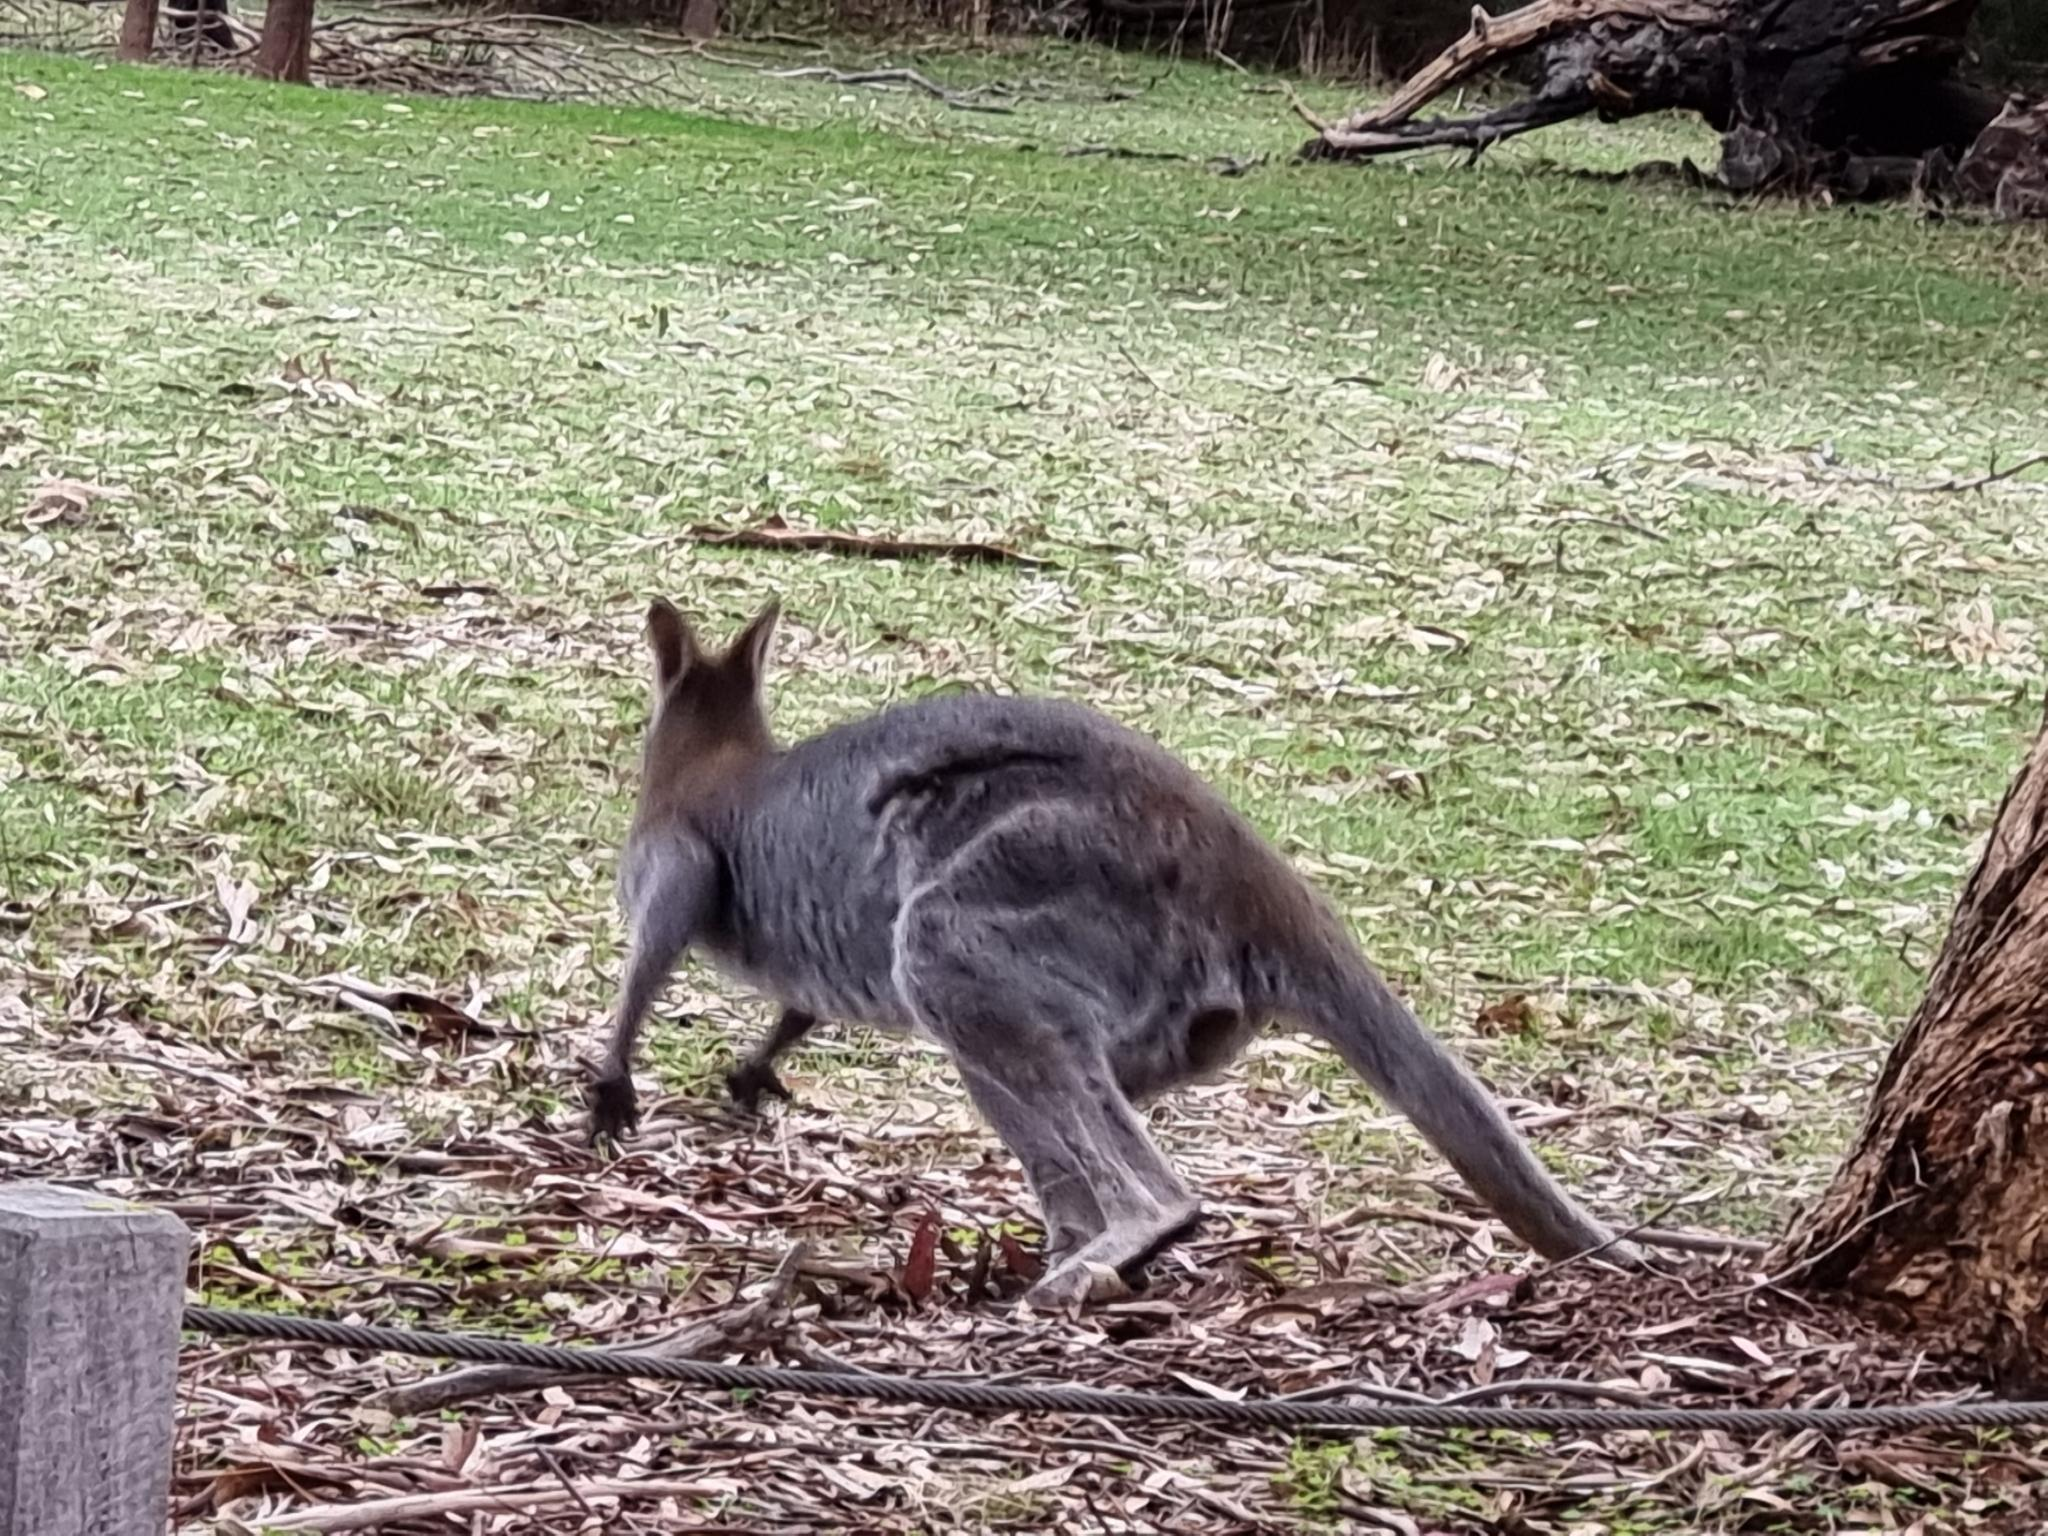Red-necked wallaby: (581, 586, 1645, 1310)
